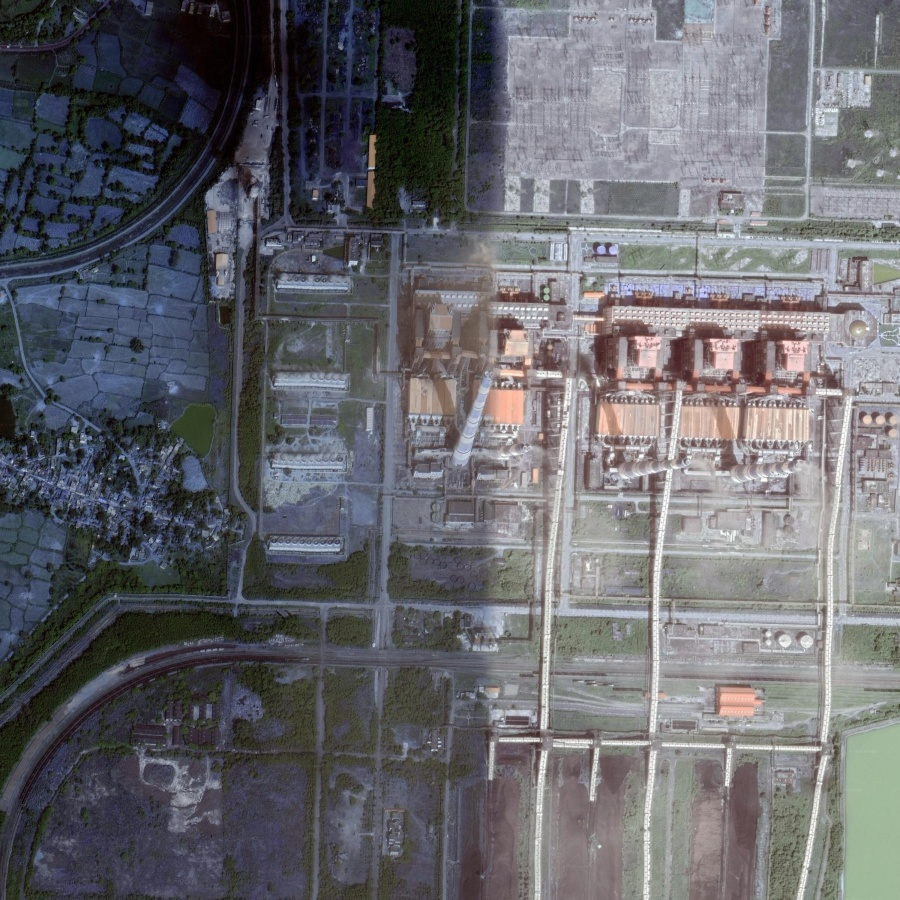PowerPlant: (383, 224, 845, 566)
